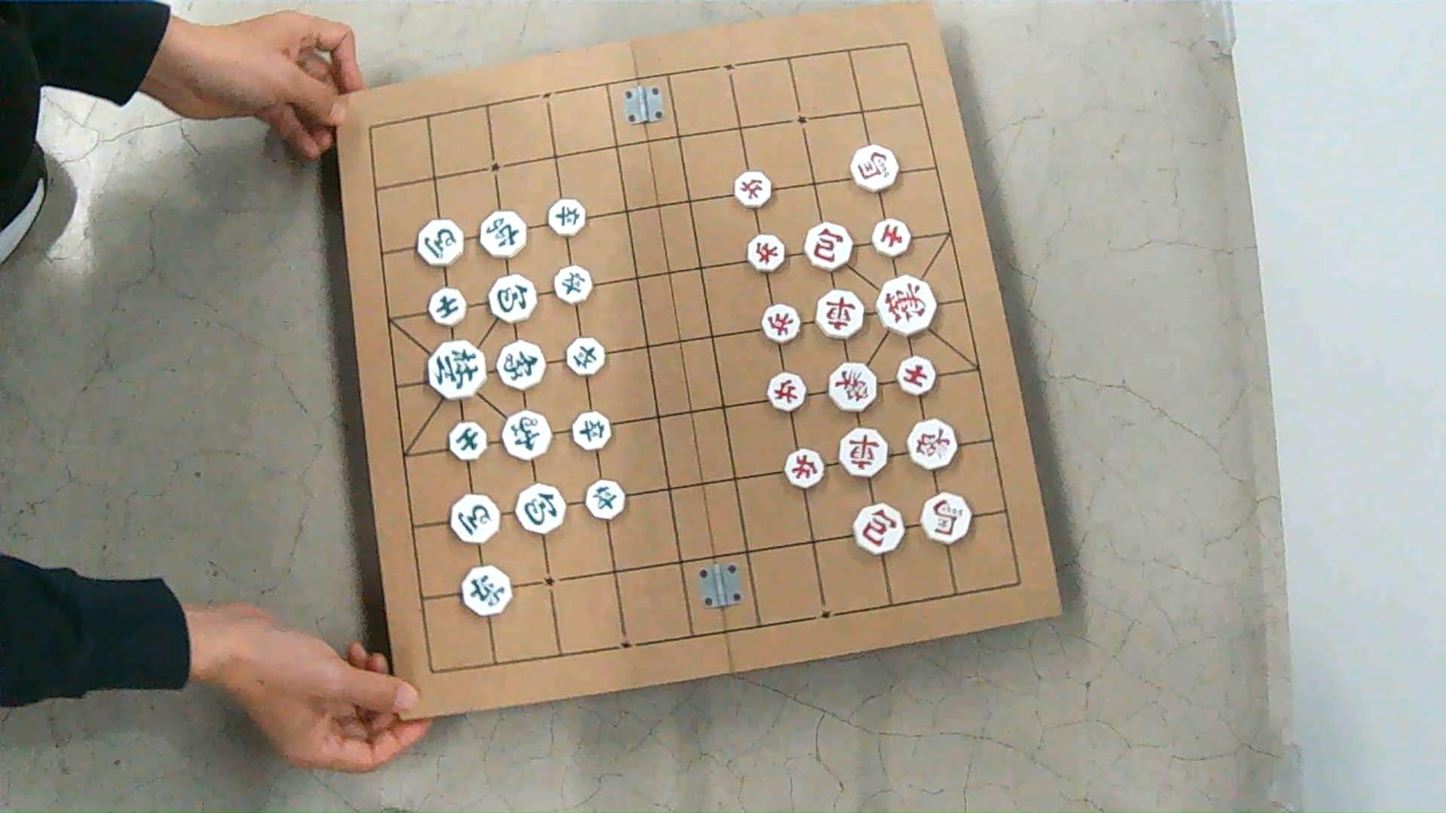cha_green: (462, 565, 512, 616), (480, 211, 526, 257)
cha_red: (816, 290, 864, 339), (840, 428, 888, 477)
jol_green: (585, 480, 624, 519), (566, 337, 605, 376), (553, 266, 592, 304), (573, 412, 611, 450), (548, 199, 585, 236)
jol_red: (785, 449, 824, 489), (761, 304, 801, 343), (767, 373, 806, 412), (748, 234, 785, 273), (734, 171, 772, 208)
ma_green: (450, 495, 500, 544), (416, 220, 464, 266)
ma_red: (921, 493, 970, 544), (850, 145, 898, 192)
po_green: (517, 484, 564, 534), (489, 276, 535, 322)
po_red: (853, 504, 903, 554), (805, 223, 852, 270)
sa_green: (449, 422, 486, 461), (429, 288, 465, 326)
sa_red: (898, 356, 936, 396), (871, 219, 910, 256)
sang_green: (502, 410, 551, 460), (497, 341, 545, 389)
sang_red: (908, 419, 957, 470), (828, 362, 877, 412)
wang_green: (428, 340, 486, 399)
wang_red: (878, 276, 935, 335)
